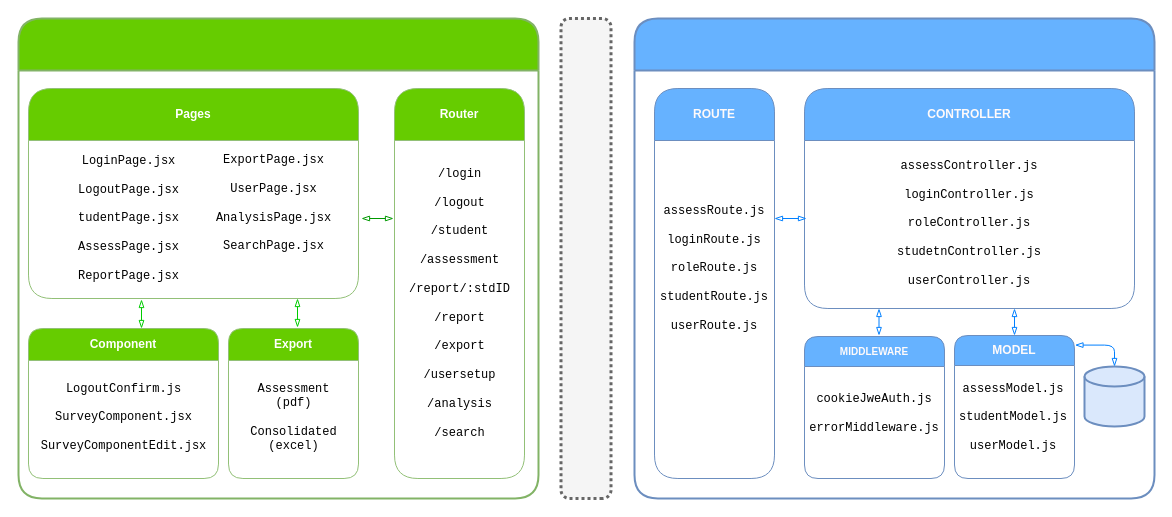
Some shapes in this 1172 by 517 pixel diagram are drawn without their labels. The box of each missing label's shape, as (x1, y1, x2, y2) in pixels:
AXIO: (559, 16, 612, 500)
BACKENG (node.js): (633, 17, 1155, 499)
FRONTEND (reactjs): (17, 17, 539, 499)
MongoDB: (1083, 365, 1145, 427)
